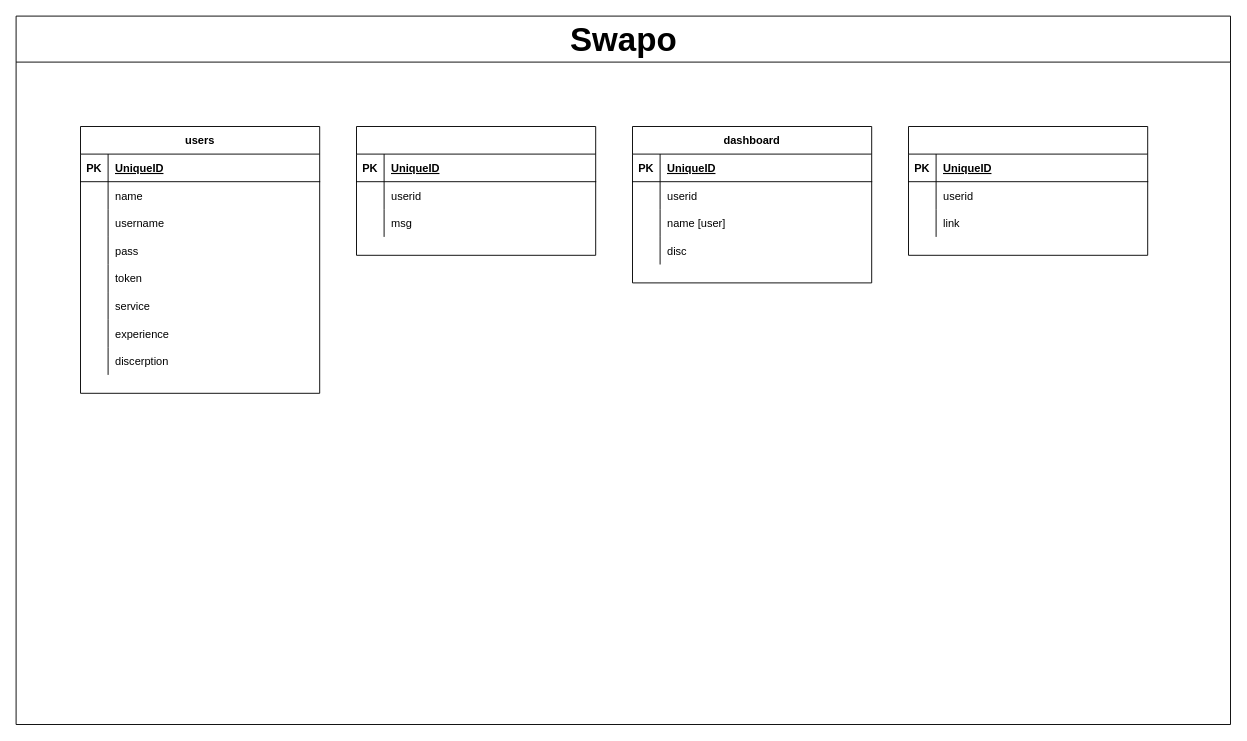
The diagram is 1247 pixels wide and 741 high, and some of its shapes have lost their labels. The box of each missing label's shape, as (x1, y1, x2, y2) in pixels:
messages: (356, 126, 596, 255)
notfications: (908, 126, 1148, 255)
